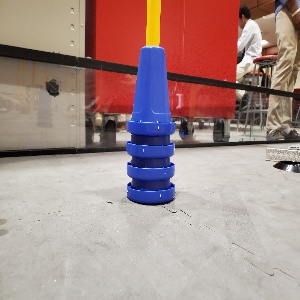Blue_4: (126, 44, 176, 205)
